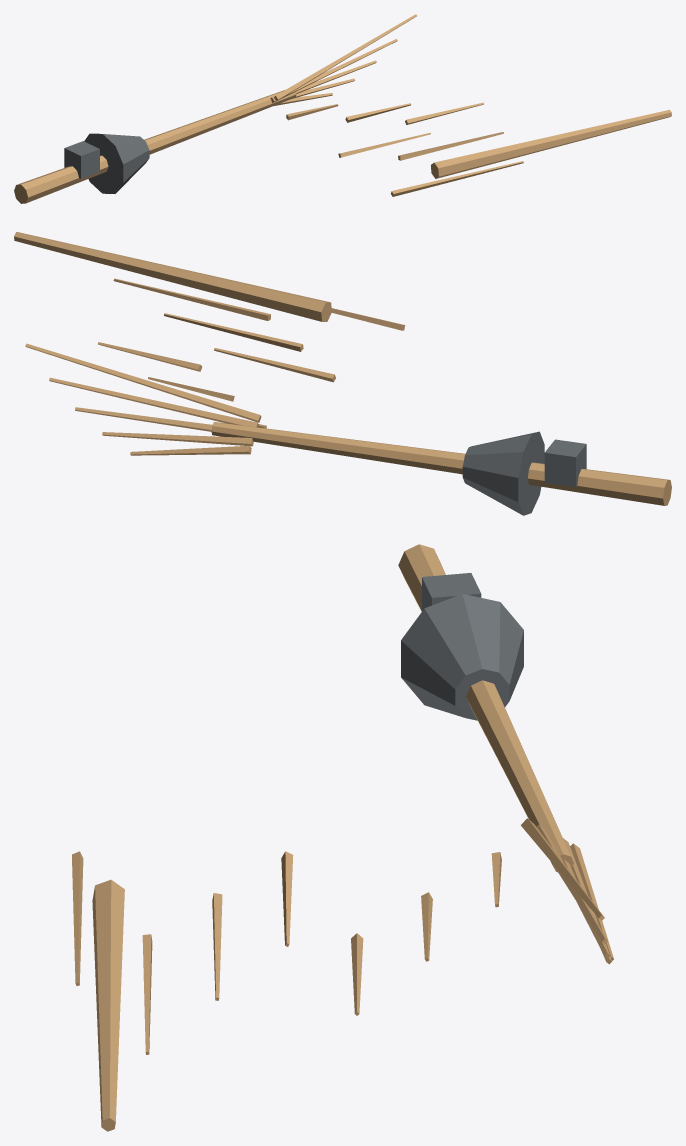
Rendered from lance-shattered.glb.
3 renders of one model, top to bottom at view 1: azimuth 30°, elevation 25°; view 2: azimuth 150°, elevation 25°; view 3: azimuth 270°, elevation 25°, orthographic. The views are drawn at different scales.
Parts seen in each view (by area): view 1: lance-shattered; view 2: lance-shattered; view 3: lance-shattered.
Boxes of the visible parts, left/top/right/bottom form: lance-shattered: left=14, top=14, right=671, bottom=203; lance-shattered: left=14, top=232, right=671, bottom=515; lance-shattered: left=72, top=544, right=613, bottom=1131.
Bounding box in the file's own units: 3.41 × 0.3933 × 1.4.
